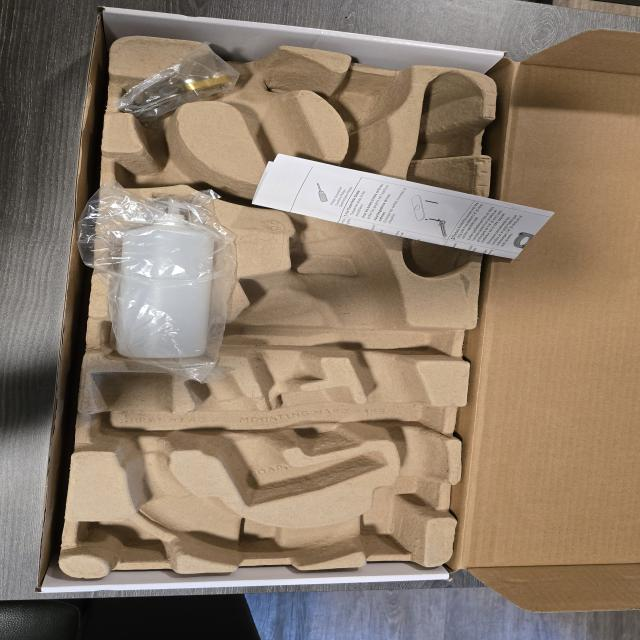1m: (93, 45, 452, 562)
2m: (191, 374, 385, 505)
3: (114, 196, 212, 360)
4m: (402, 71, 482, 279)
5m: (337, 80, 406, 127)
6: (106, 42, 250, 119)
7m: (118, 134, 234, 191)
8: (245, 152, 554, 262)
